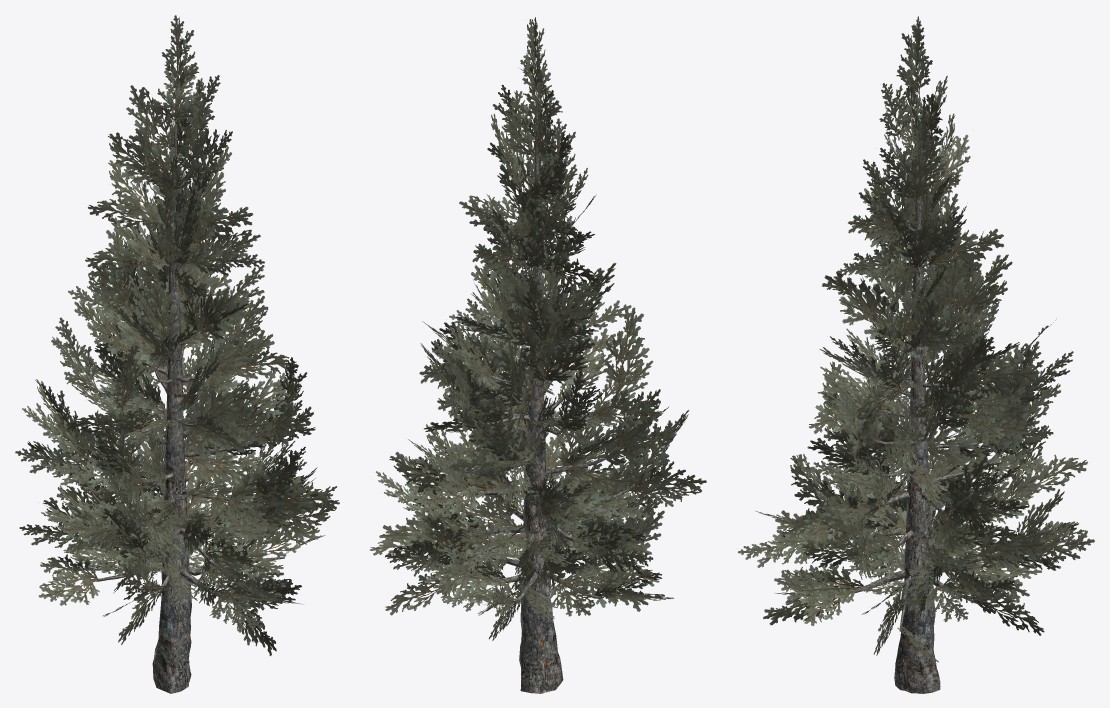
3 views of the same model, side by side, from view 1: azimuth 30°, elevation 25°; view 2: azimuth 150°, elevation 25°; view 3: azimuth 270°, elevation 25° (orthographic).
Parts seen in each view (by area): view 1: Spruce_LOD0; view 2: Spruce_LOD0; view 3: Spruce_LOD0.
Boxes of the visible parts, <box> form: Spruce_LOD0: <box>15,15,339,693</box>; Spruce_LOD0: <box>370,17,706,693</box>; Spruce_LOD0: <box>738,16,1094,693</box>.
Bounding box in the file's own units: 8.1 × 17.42 × 8.42.
Materials: 2 (2 with a texture image).
